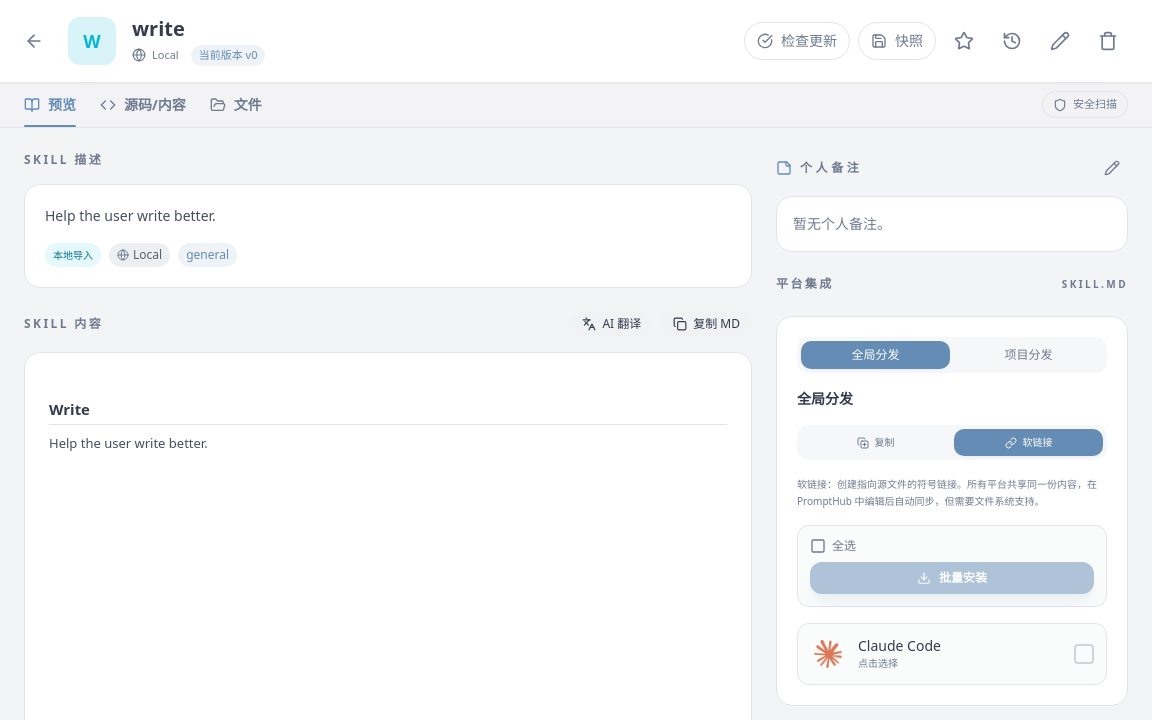
Test case: Skill detail project distribution › renders the source-only delete confirmation hint from the active locale
This screenshot has width=1152, height=720.
Click the button titled "删除": click(1108, 41) [1088,21,1128,61]
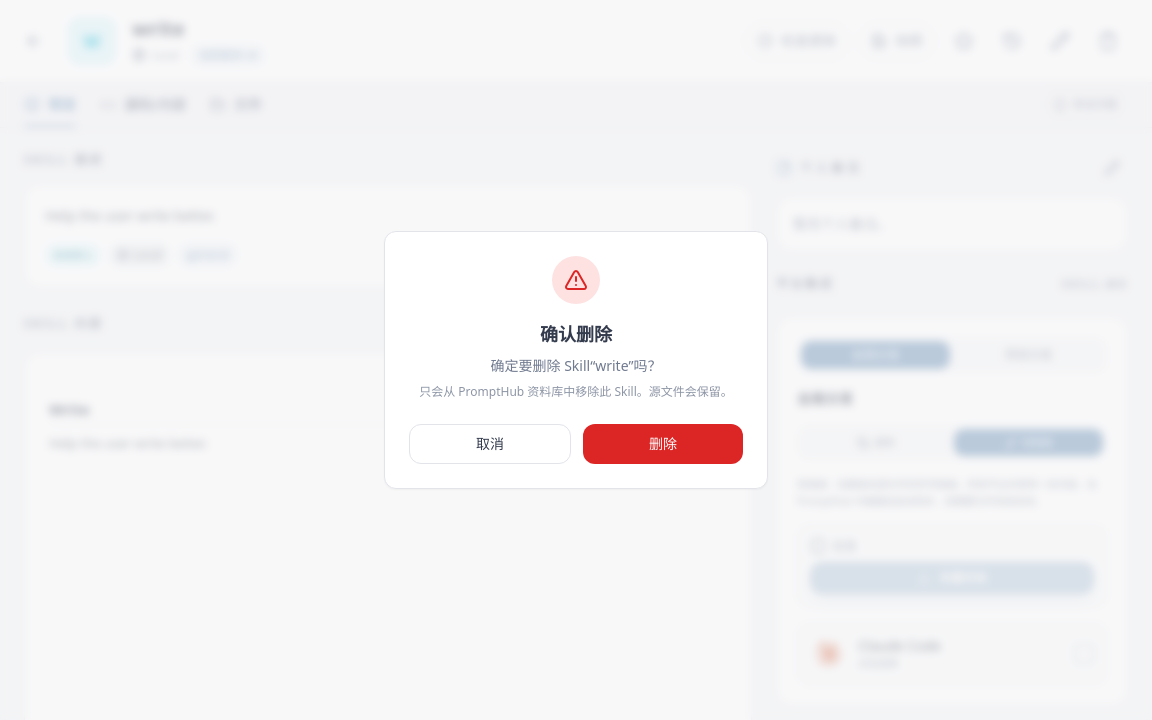
Check: the text "只会从 PromptHub 资料库中移除此 Skill。源文件会保留。" is shown, box [409,384,743,400]
